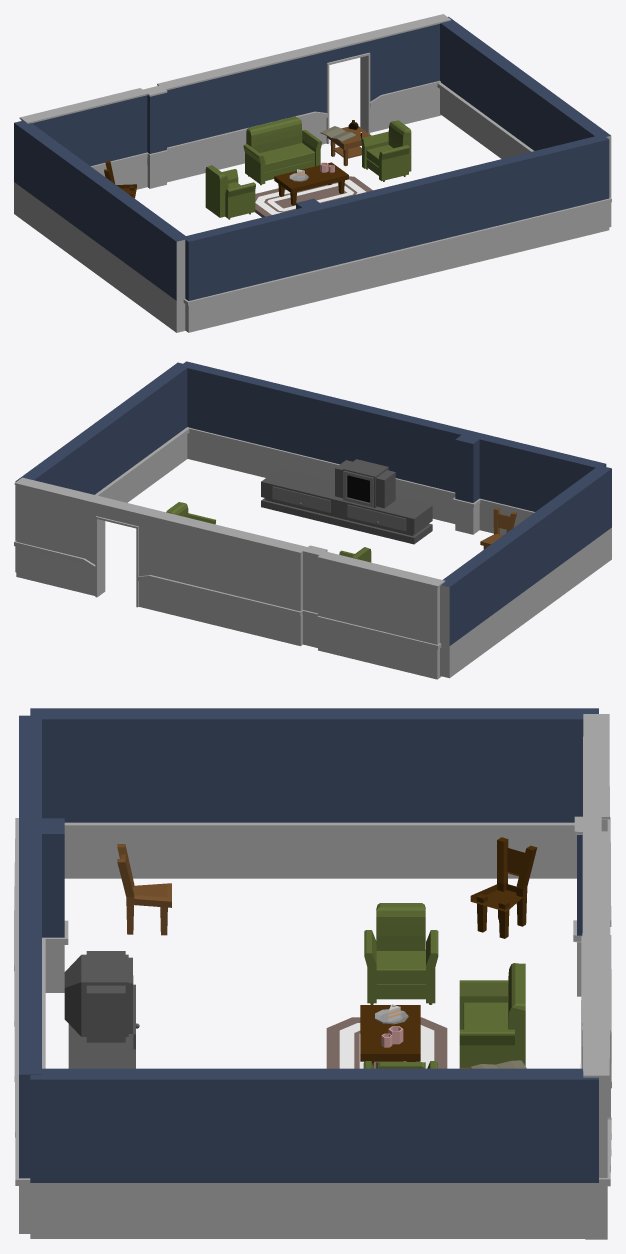
Rendered from 小场景(1).fbx.
The picture shows the model from 3 angles, top to bottom: view 1: azimuth 30°, elevation 25°; view 2: azimuth 150°, elevation 25°; view 3: azimuth 270°, elevation 25°; orthographic projection. The views are drawn at different scales.
Visible parts, largest first — view 1: 墙1, 墙2, 立方体, 墙3, big sofa, sofa.001, sofa, 地毯, 桌子, 小桌子; view 2: 墙2, 墙1, 立方体, 墙3, 柜子.001, 电视机, 椅子; view 3: 墙3, 立方体, 墙1, 墙2, sofa, big sofa, 电视机, 椅子.001, 地毯, 桌子, 柜子.001, 椅子.
Boxes of the visible parts, bbox=[...] form: 墙1: bbox=[182, 134, 611, 332]; 墙2: bbox=[19, 14, 450, 189]; 立方体: bbox=[14, 120, 185, 332]; 墙3: bbox=[437, 16, 611, 227]; big sofa: bbox=[243, 116, 321, 185]; sofa.001: bbox=[361, 120, 411, 181]; sofa: bbox=[205, 165, 255, 219]; 地毯: bbox=[255, 176, 372, 217]; 桌子: bbox=[274, 162, 348, 205]; 小桌子: bbox=[327, 126, 371, 166]; 墙2: bbox=[14, 477, 445, 679]; 墙1: bbox=[180, 361, 606, 534]; 立方体: bbox=[440, 466, 611, 678]; 墙3: bbox=[15, 362, 189, 572]; 柜子.001: bbox=[261, 468, 432, 544]; 电视机: bbox=[335, 459, 395, 508]; 椅子: bbox=[480, 507, 516, 549]; 墙3: bbox=[30, 1068, 598, 1238]; 立方体: bbox=[30, 708, 598, 878]; 墙1: bbox=[14, 715, 68, 1233]; 墙2: bbox=[573, 714, 611, 1239]; sofa: bbox=[364, 903, 438, 1004]; big sofa: bbox=[459, 963, 525, 1068]; 电视机: bbox=[64, 951, 132, 1042]; 椅子.001: bbox=[470, 837, 537, 938]; 地毯: bbox=[326, 1017, 447, 1068]; 桌子: bbox=[360, 1005, 420, 1065]; 柜子.001: bbox=[68, 975, 139, 1068]; 椅子: bbox=[117, 844, 171, 935].
Size of what is drawn, in the model's own units: 2910 by 619 by 1981.
